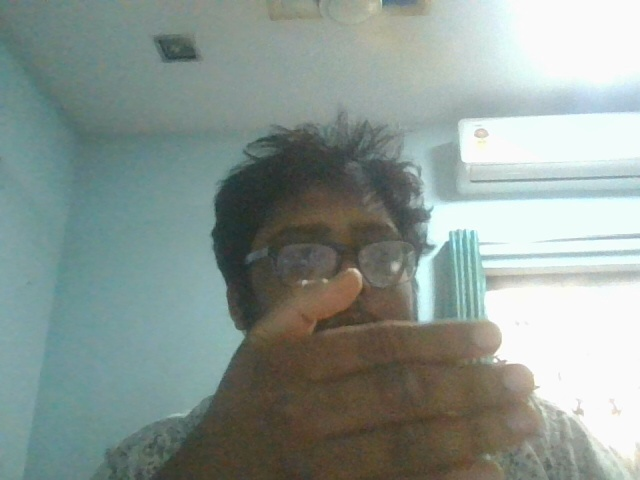LEFT: (211, 271, 549, 480)
